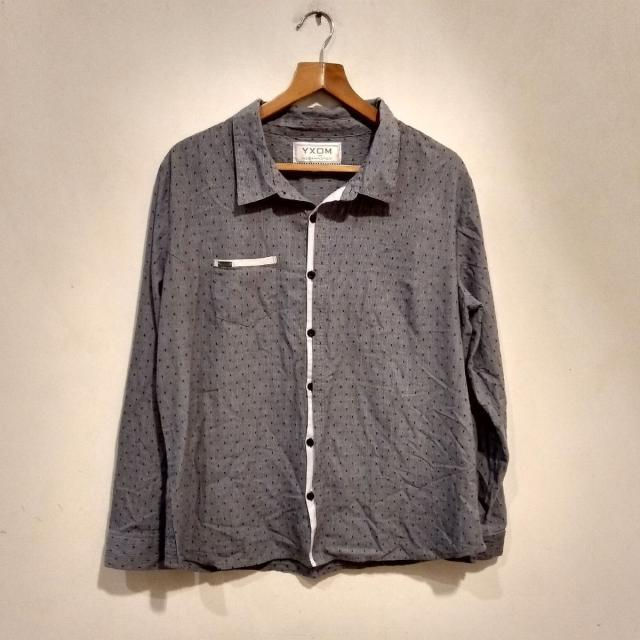long sleeve shirt: (98, 86, 511, 586)
